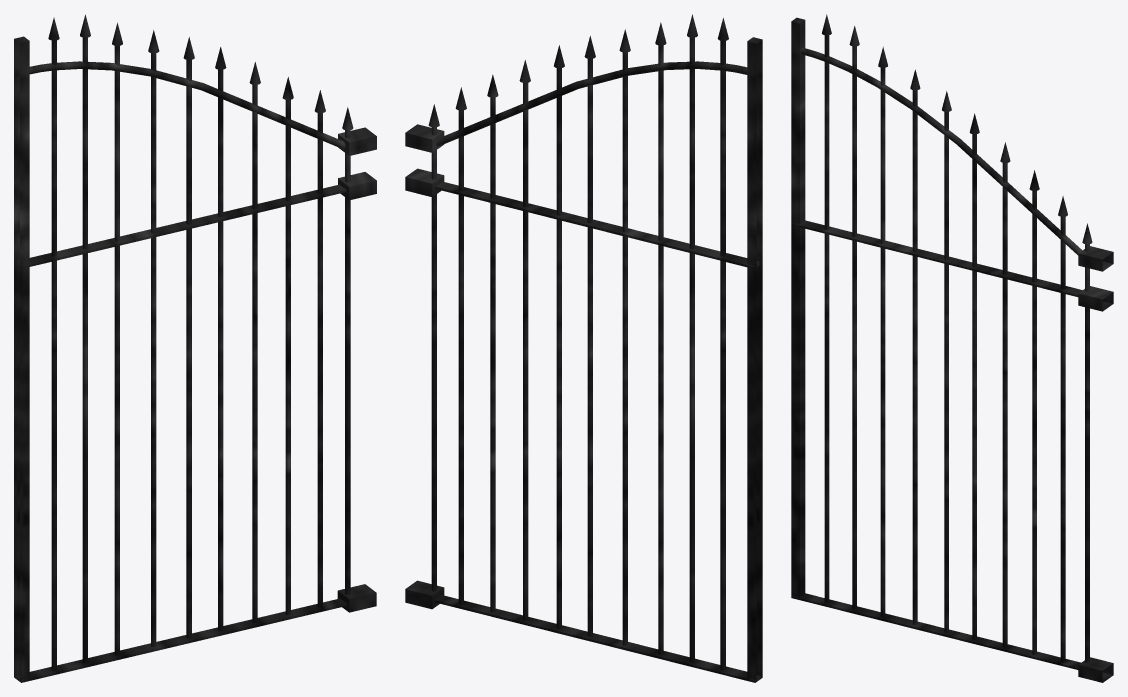
File: RejaDer.obj
The picture shows the model from 3 angles, left to right: view 1: azimuth 30°, elevation 25°; view 2: azimuth 150°, elevation 25°; view 3: azimuth 330°, elevation 25°; orthographic projection. The views are drawn at different scales.
Visible parts, largest first — view 1: reja_der; view 2: reja_der; view 3: reja_der.
Boxes of the visible parts, <box> form: reja_der: <box>14,14,376,682</box>; reja_der: <box>405,14,762,682</box>; reja_der: <box>791,14,1113,682</box>.
Size of the model in its own units: 1.07 by 1.92 by 0.0643.
